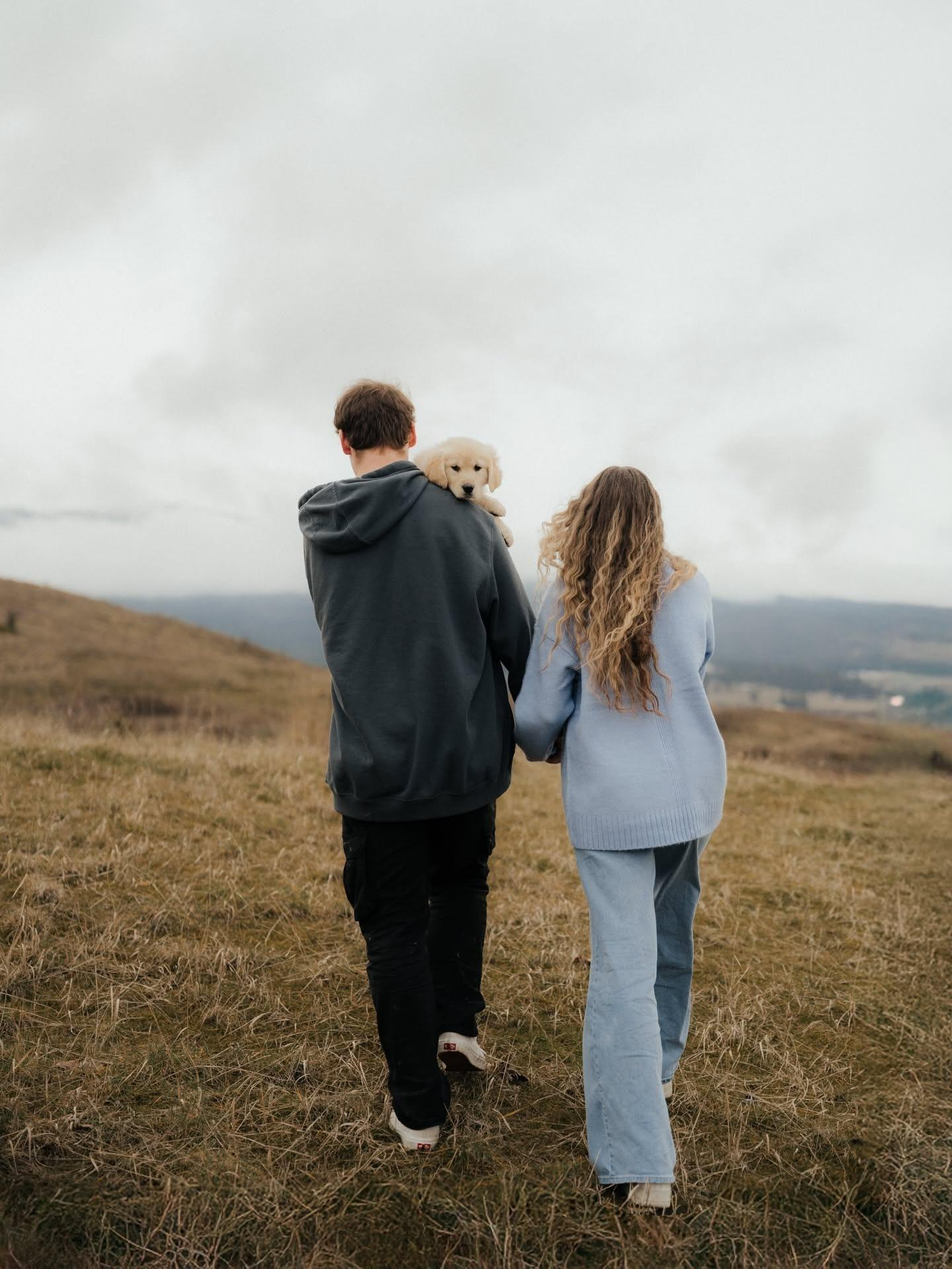non-dog: (296, 378, 537, 1151), (515, 465, 728, 1213)
puppy-dog: (413, 436, 515, 548)
